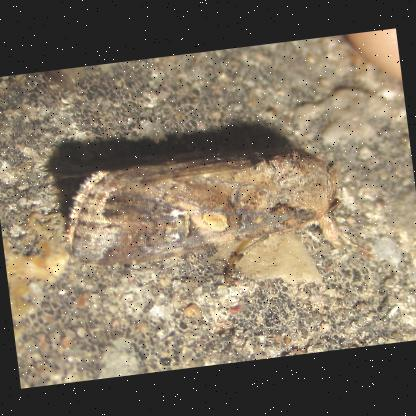Fall Armyworm Moth: (38, 125, 378, 310)
